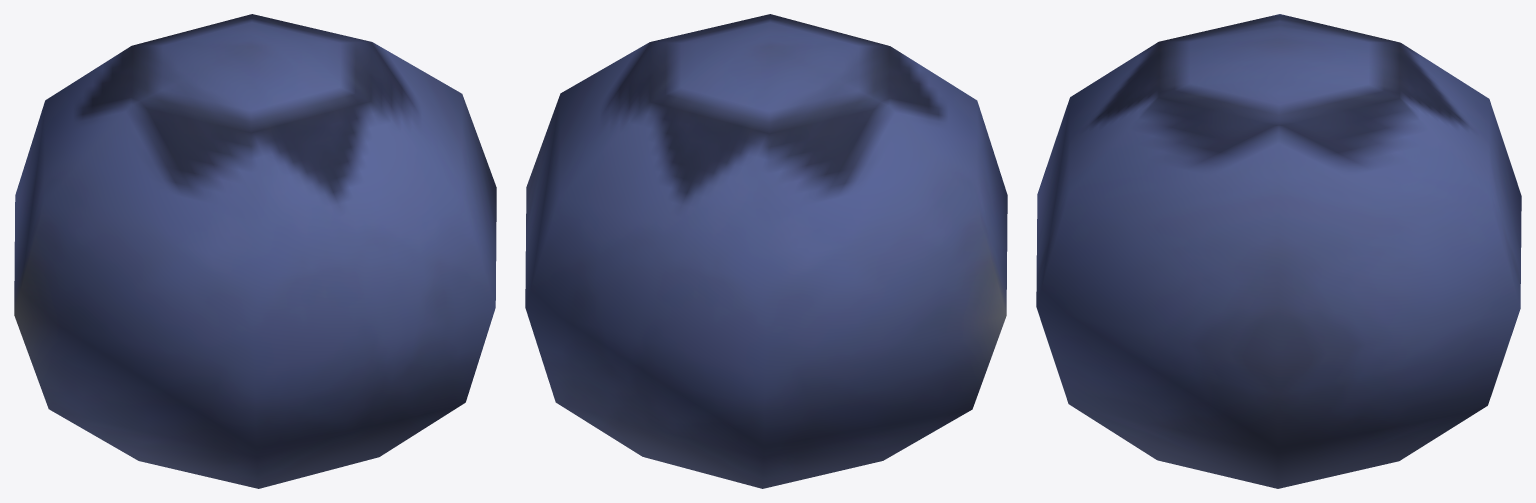
Rendered from acfd30cc-fcde-485f-8088-b4d73e08d97c.glb.
3 renders of one model, left to right at view 1: azimuth 30°, elevation 25°; view 2: azimuth 150°, elevation 25°; view 3: azimuth 270°, elevation 25°, orthographic.
Parts seen in each view (by area): view 1: Blueberry; view 2: Blueberry; view 3: Blueberry.
Boxes of the visible parts, x1,y1,x2,y2 form: Blueberry: (14, 14, 496, 488); Blueberry: (525, 14, 1007, 488); Blueberry: (1036, 14, 1521, 488).
Bounding box in the file's own units: 0.0411 × 0.0336 × 0.0357.
Materials: 1 (1 with a texture image).
